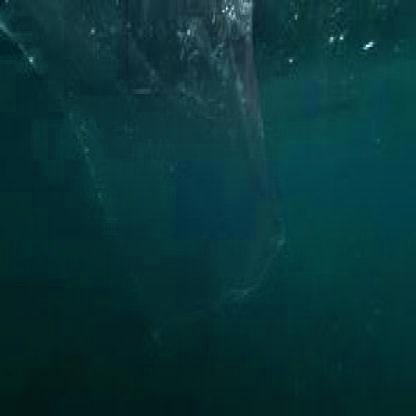pbag: (1, 2, 290, 364)
